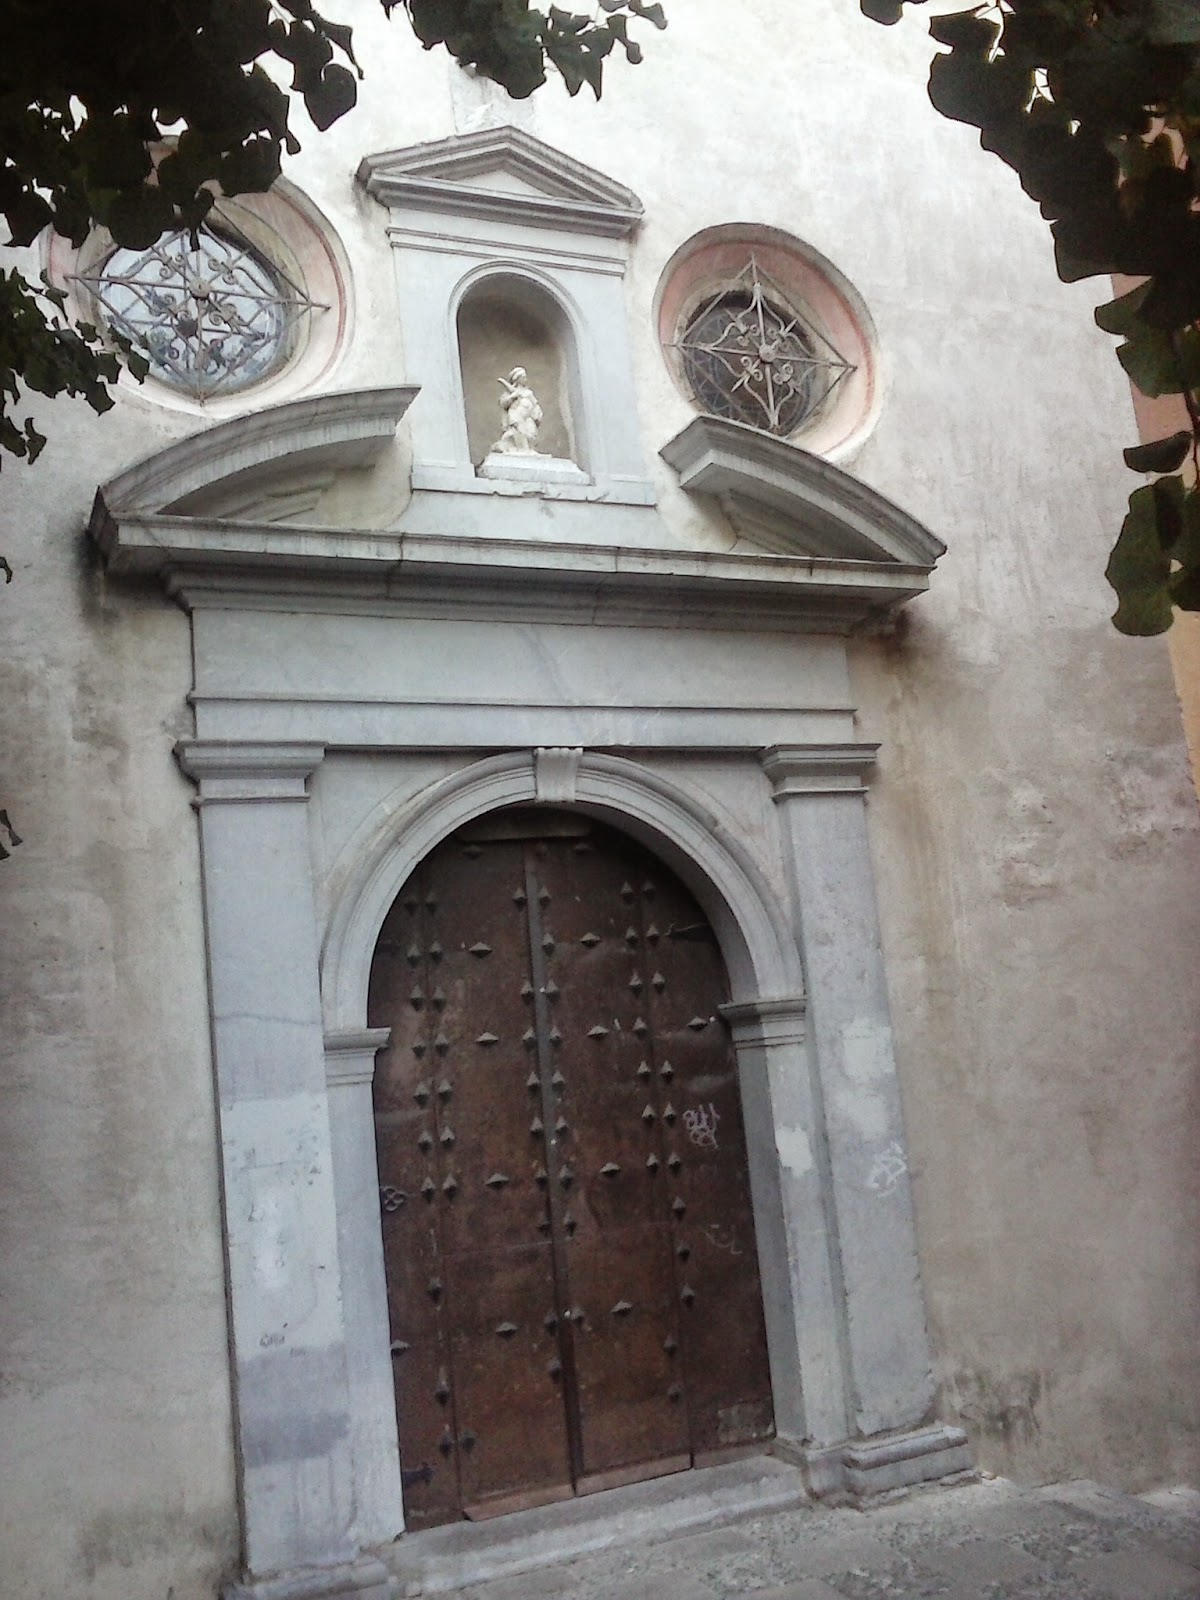arco-medio-punto: (357, 784, 758, 1099), (455, 260, 584, 355)
fronton: (355, 123, 650, 237)
fronton-partido: (81, 369, 955, 615)
